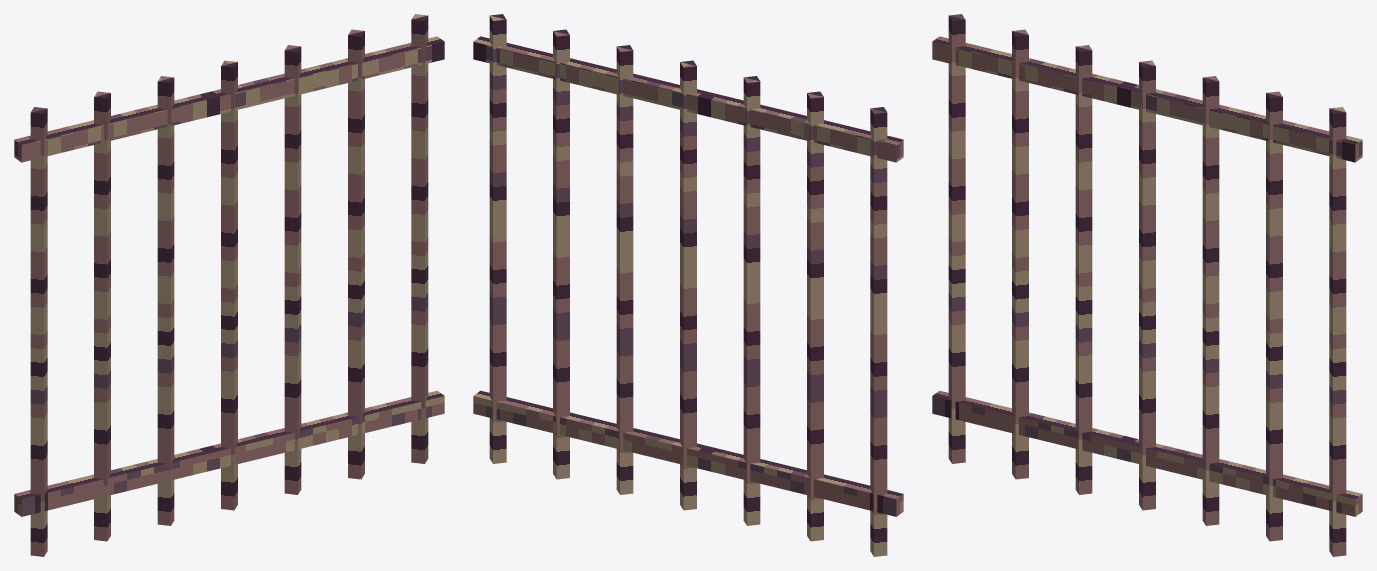
Rendered from nomadas_vento_cerca_lagartos.glb.
3 renders of one model, left to right at view 1: azimuth 30°, elevation 25°; view 2: azimuth 150°, elevation 25°; view 3: azimuth 330°, elevation 25°, orthographic.
Visible parts, largest first — view 1: nomadas_vento_cerca_lagartos; view 2: nomadas_vento_cerca_lagartos; view 3: nomadas_vento_cerca_lagartos.
Part boxes in pixels (x1,y1,x2,y2): nomadas_vento_cerca_lagartos: [14, 14, 444, 556]; nomadas_vento_cerca_lagartos: [473, 14, 903, 556]; nomadas_vento_cerca_lagartos: [932, 14, 1362, 556].
Size of the model in its own units: 2 by 2 by 0.08.
1 material, 1 textured.
